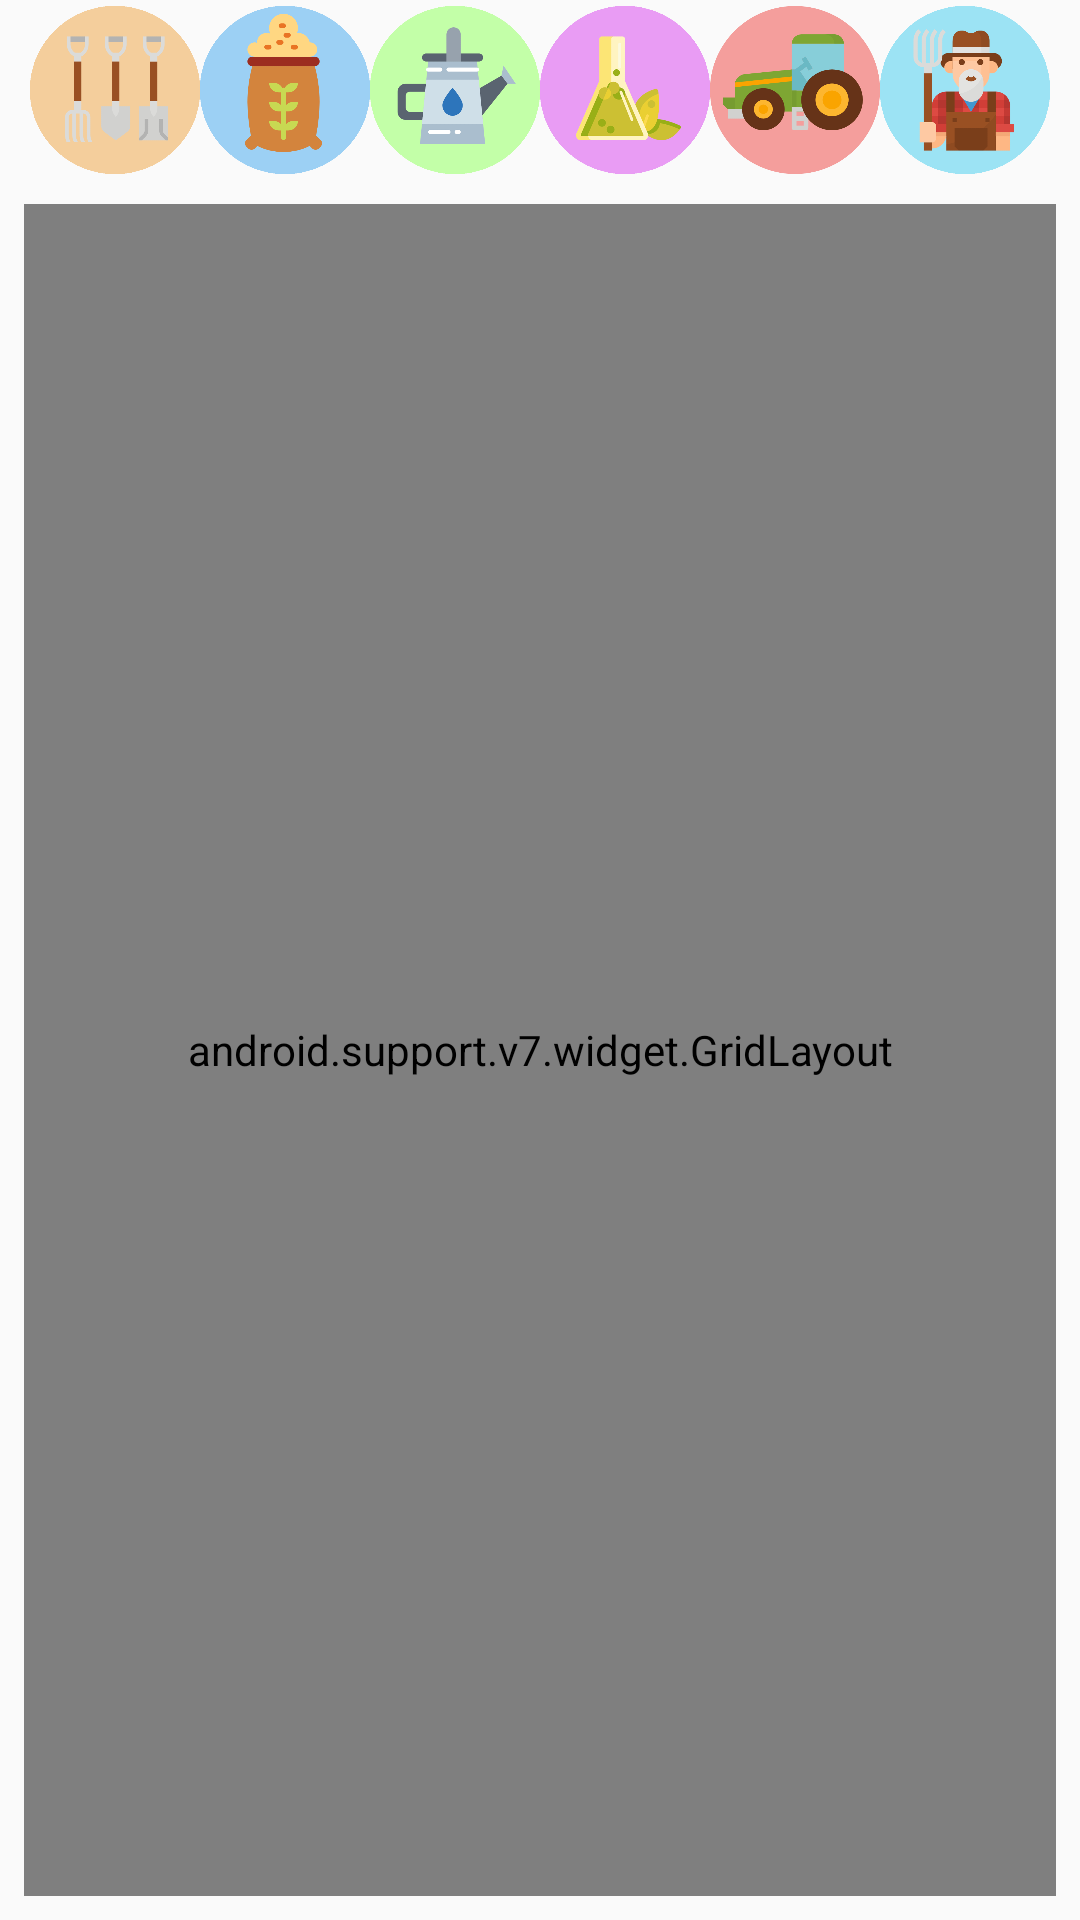

Icons on this 1080 x 1920 Android screen, each with its box as [left=x1, top=y1, right=x2, bottom=y2]:
care: [left=370, top=6, right=540, bottom=174]
crop: [left=200, top=6, right=370, bottom=174]
harvest: [left=710, top=6, right=880, bottom=174]
land: [left=30, top=6, right=200, bottom=174]
pest: [left=540, top=6, right=710, bottom=174]
